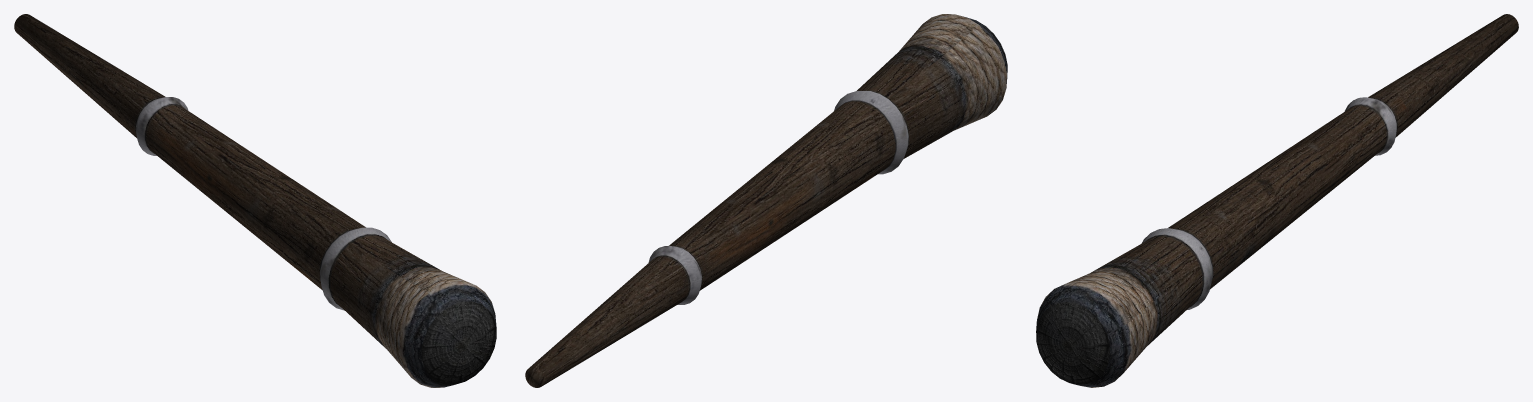
File: Titlt_000003.fbx
3 views of the same model, side by side, from view 1: azimuth 30°, elevation 25°; view 2: azimuth 150°, elevation 25°; view 3: azimuth 330°, elevation 25° (orthographic).
Parts seen in each view (by area): view 1: Object001; view 2: Object001; view 3: Object001.
Part boxes in pixels (x1,y1,x2,y2): Object001: [14, 14, 496, 387]; Object001: [525, 14, 1007, 387]; Object001: [1036, 14, 1518, 387].
Size of the model in its own units: 4.47 by 4.64 by 35.99.
Materials: 1 (1 with a texture image).
